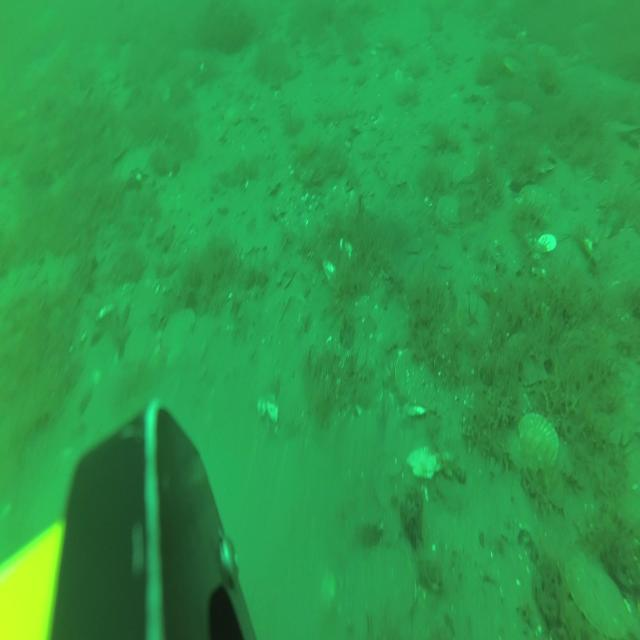scallop: (564, 550, 634, 637), (518, 404, 562, 474), (502, 329, 553, 386), (394, 342, 438, 408), (159, 306, 198, 352), (408, 439, 447, 482), (434, 192, 465, 232), (352, 129, 381, 158), (221, 100, 245, 126)
